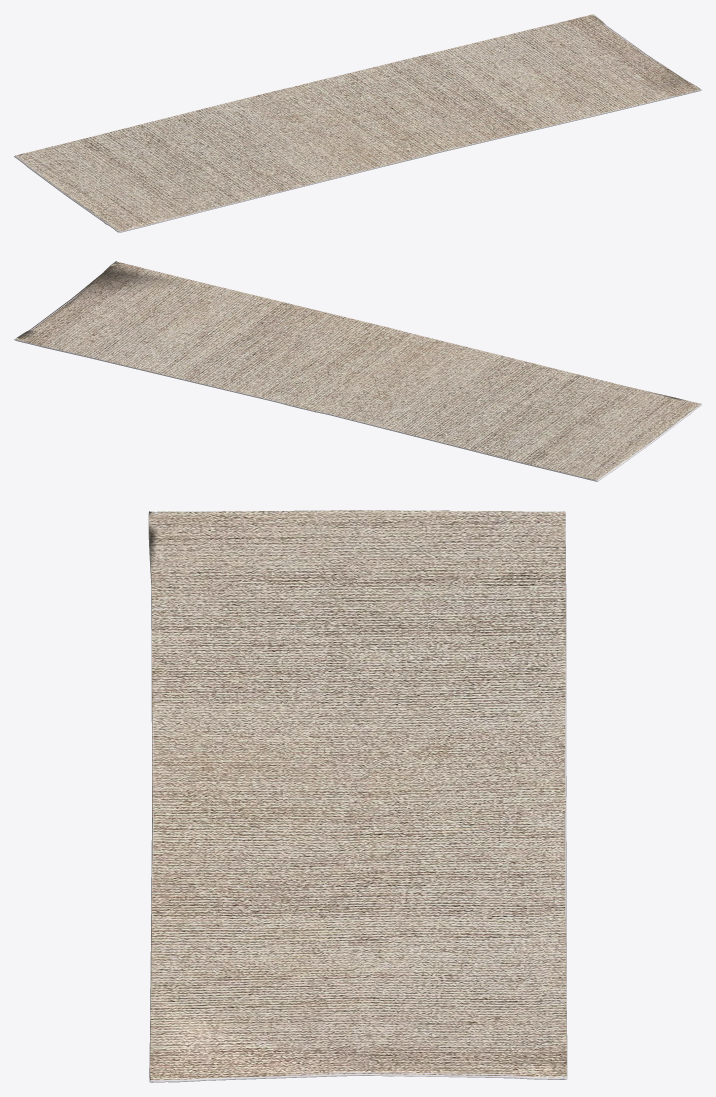
File: B07B4ZJV1V.glb
3 views of the same model, one above another, from view 1: azimuth 30°, elevation 25°; view 2: azimuth 150°, elevation 25°; view 3: azimuth 270°, elevation 25° (orthographic). The views are drawn at different scales.
Visible parts, largest first — view 1: RootNode; view 2: RootNode; view 3: RootNode.
Boxes of the visible parts, <box> form: RootNode: <box>14,14,701,232</box>; RootNode: <box>14,261,701,481</box>; RootNode: <box>148,510,567,1082</box>.
Bounding box in the file's own units: 2.39 × 0.0137 × 0.7405.
1 material, 1 textured.
